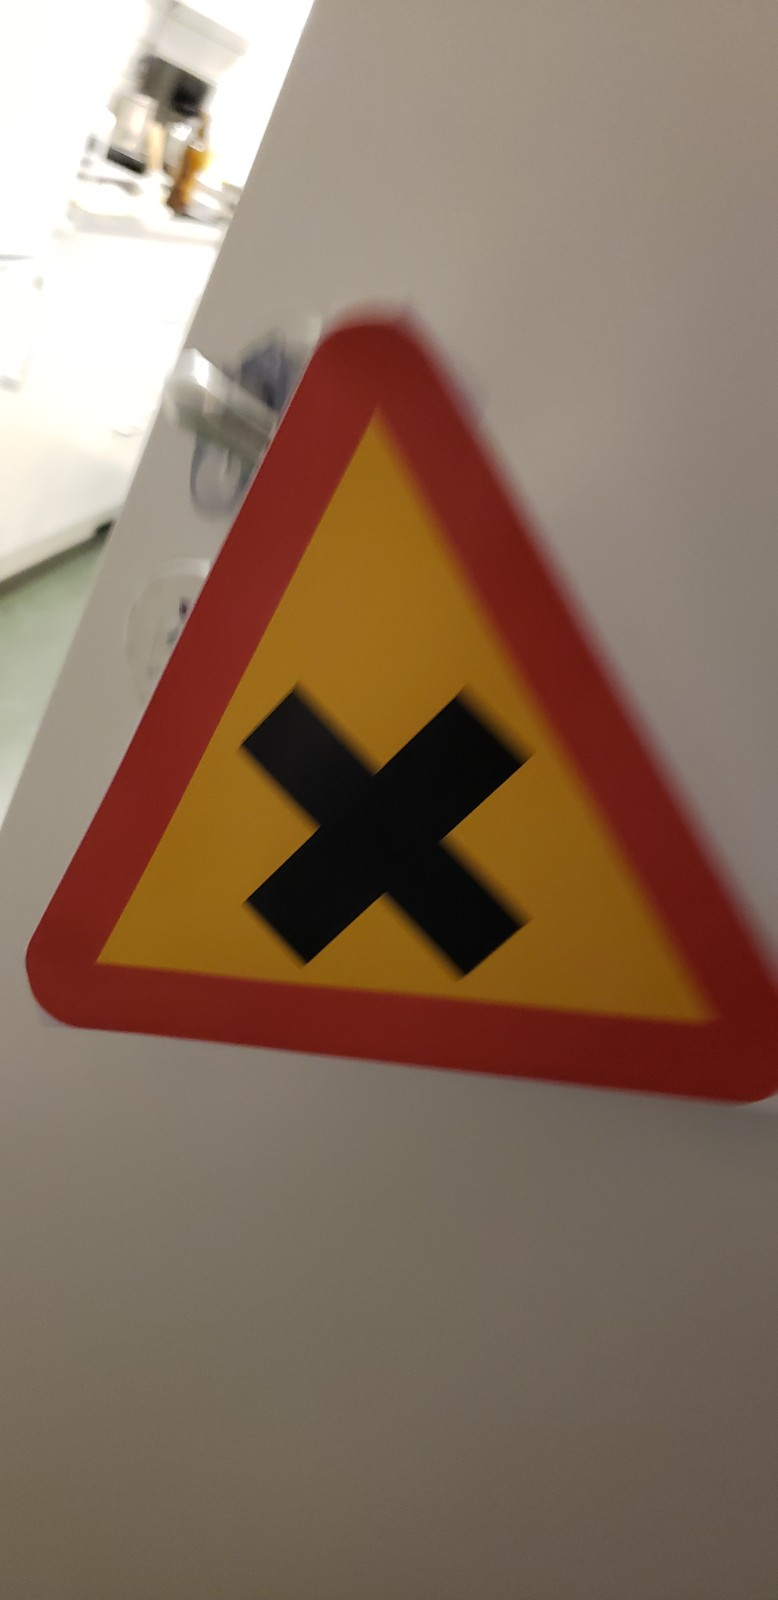junction: (26, 254, 778, 1244)
